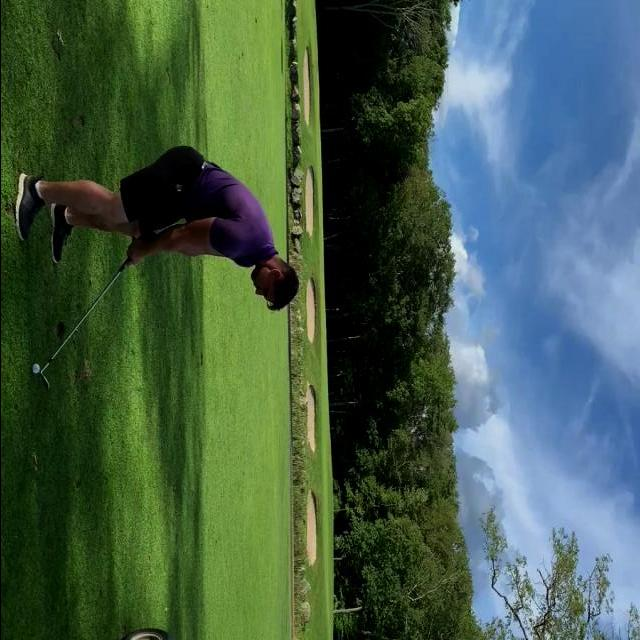golf ball: (30, 363, 38, 374)
golf club-handle: (38, 259, 130, 390)
golf club-head: (38, 372, 48, 390)
